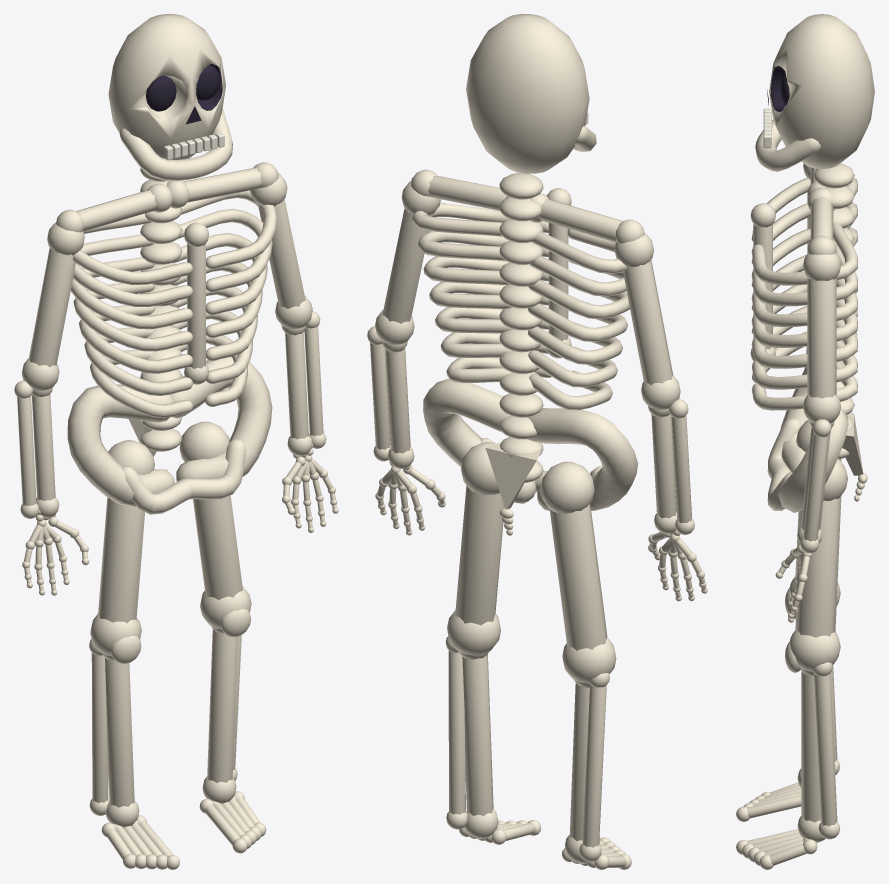
Rendered from skeleton.glb.
3 renders of one model, left to right at view 1: azimuth 30°, elevation 25°; view 2: azimuth 150°, elevation 25°; view 3: azimuth 270°, elevation 25°, orthographic. The views are drawn at different scales.
Parts seen in each view (by area): view 1: Cranium, Iliac_crest, Iliac_crest.001, Bone_shaft, Bone_shaft.032, Bone_shaft.031, Bone_shaft.001, Bone_shaft.004, Mandible, Curved_rib.001, Bone_shaft.035, Curved_rib.002 (+39 smaller); view 2: Cranium, Bone_shaft, Iliac_crest, Bone_shaft.031, Iliac_crest.001, Bone_shaft.032, Bone_shaft.004, Bone_shaft.035, Bone_shaft.002, Bone_shaft.033, Curved_rib.007, Bone_epiphysis (+42 smaller); view 3: Cranium, Bone_shaft.031, Bone_shaft.035, Bone_shaft.033, Bone_shaft.032, Iliac_crest.001, Curved_rib.007, Bone_shaft.037, Mandible, Bone_epiphysis.063, Curved_rib.008, Curved_rib.009 (+28 smaller).
Part boxes in pixels (left/top/right/bottom): Cranium: left=108, top=14, right=225, bottom=159; Iliac_crest: left=67, top=384, right=174, bottom=506; Iliac_crest.001: left=170, top=357, right=272, bottom=481; Bone_shaft: left=98, top=497, right=144, bottom=623; Bone_shaft.032: left=207, top=629, right=237, bottom=782; Bone_shaft.031: left=193, top=495, right=242, bottom=599; Bone_shaft.001: left=105, top=658, right=134, bottom=807; Bone_shaft.004: left=29, top=248, right=75, bottom=367; Mandible: left=119, top=108, right=232, bottom=181; Curved_rib.001: left=73, top=234, right=192, bottom=306; Bone_shaft.035: left=258, top=199, right=305, bottom=308; Curved_rib.002: left=70, top=257, right=192, bottom=329; Cranium: left=466, top=14, right=589, bottom=173; Bone_shaft: left=549, top=504, right=607, bottom=650; Iliac_crest: left=527, top=408, right=637, bottom=510; Bone_shaft.031: left=455, top=485, right=504, bottom=625; Iliac_crest.001: left=423, top=378, right=536, bottom=503; Bone_shaft.032: left=462, top=654, right=493, bottom=816; Bone_shaft.004: left=623, top=259, right=673, bottom=385; Bone_shaft.035: left=382, top=208, right=428, bottom=323; Bone_shaft.002: left=582, top=684, right=606, bottom=847; Bone_shaft.033: left=448, top=650, right=465, bottom=814; Curved_rib.007: left=412, top=203, right=548, bottom=236; Bone_epiphysis: left=540, top=461, right=594, bottom=513; Cranium: left=769, top=14, right=874, bottom=168; Bone_shaft.031: left=795, top=496, right=841, bottom=637; Bone_shaft.035: left=807, top=277, right=836, bottom=398; Bone_shaft.033: left=814, top=673, right=837, bottom=826; Bone_shaft.032: left=801, top=671, right=820, bottom=822; Iliac_crest.001: left=778, top=407, right=848, bottom=512; Curved_rib.007: left=751, top=223, right=857, bottom=285; Bone_shaft.037: left=803, top=433, right=828, bottom=541; Mandible: left=755, top=120, right=820, bottom=171; Bone_epiphysis.063: left=789, top=630, right=840, bottom=671; Curved_rib.008: left=751, top=246, right=857, bottom=306; Curved_rib.009: left=751, top=279, right=857, bottom=327.
Size of the model in its own units: 0.7409 by 1.85 by 0.2836.
